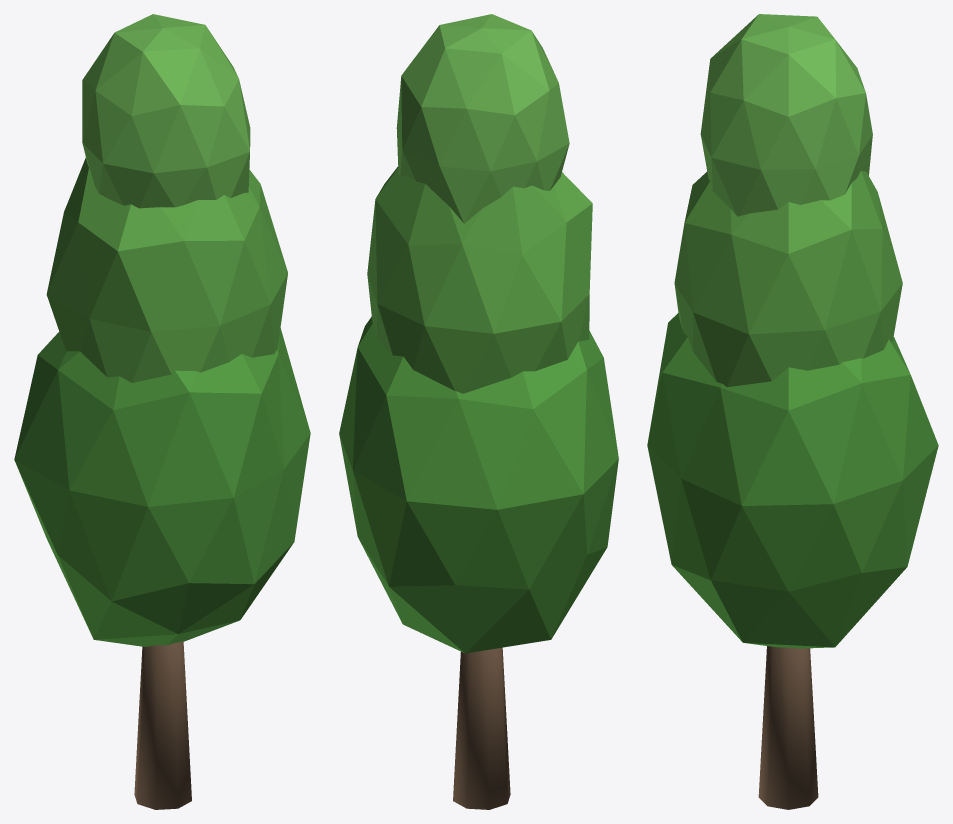
Rendered from poplar.glb.
The picture shows the model from 3 angles, left to right: view 1: azimuth 30°, elevation 25°; view 2: azimuth 150°, elevation 25°; view 3: azimuth 270°, elevation 25°; orthographic projection.
Parts seen in each view (by area): view 1: Crown, Trunk; view 2: Crown, Trunk; view 3: Crown, Trunk.
Boxes of the visible parts, x1,y1,x2,y2 form: Crown: [14, 14, 310, 646]; Trunk: [134, 641, 191, 809]; Crown: [339, 14, 618, 653]; Trunk: [453, 647, 510, 809]; Crown: [647, 14, 938, 648]; Trunk: [758, 646, 818, 809].
Bounding box in the file's own units: 1.93 × 5.69 × 1.95.
